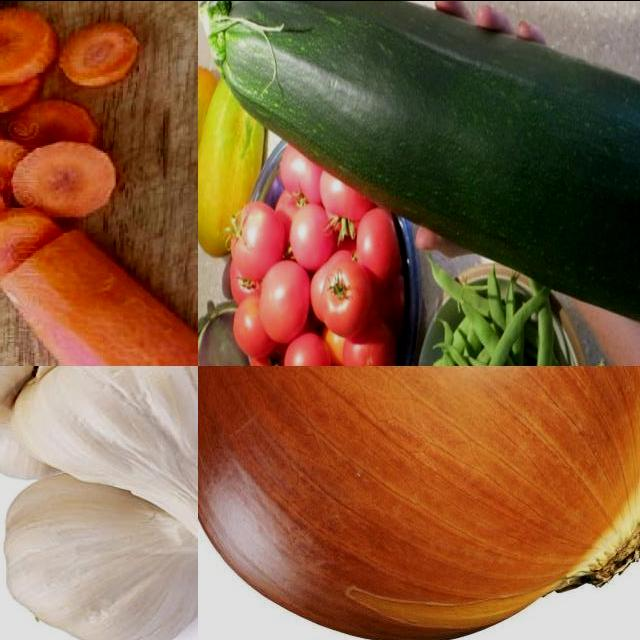carrot: (1, 226, 199, 366)
garlic: (13, 366, 199, 591), (1, 466, 199, 640)
onion: (199, 366, 640, 640)
tomato: (213, 197, 288, 283), (311, 253, 377, 336), (254, 254, 315, 343), (282, 208, 342, 275), (326, 320, 395, 366), (226, 289, 276, 352)
zucchini: (199, 1, 640, 221), (199, 74, 265, 265), (285, 1, 405, 30)
